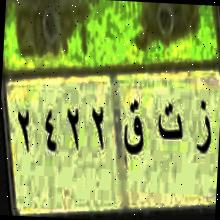2: (62, 89, 87, 165), (87, 98, 111, 162), (12, 102, 36, 164)
4: (42, 99, 60, 164)
qaaf: (122, 86, 146, 164)
taa: (153, 92, 187, 154)
zay: (191, 88, 215, 164)
